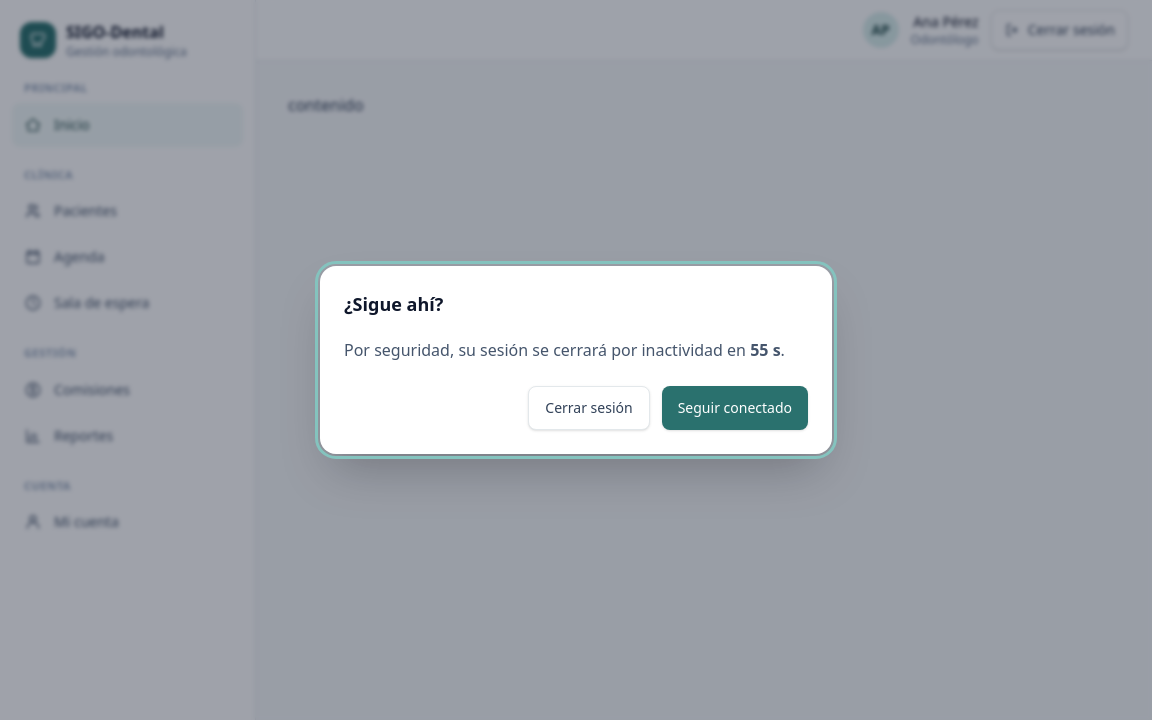
it: AppLayout: inactividad (RNF-05c) › "Seguir conectado" evita el cierre y avisa al servidor
The width and height of the screenshot is (1152, 720).
What coordinates should you click on to do the following:
click the button "Seguir conectado"
I would click on:
 (735, 408)
Its box is x1=662 y1=386 x2=808 y2=430.
Wait 600000 ms
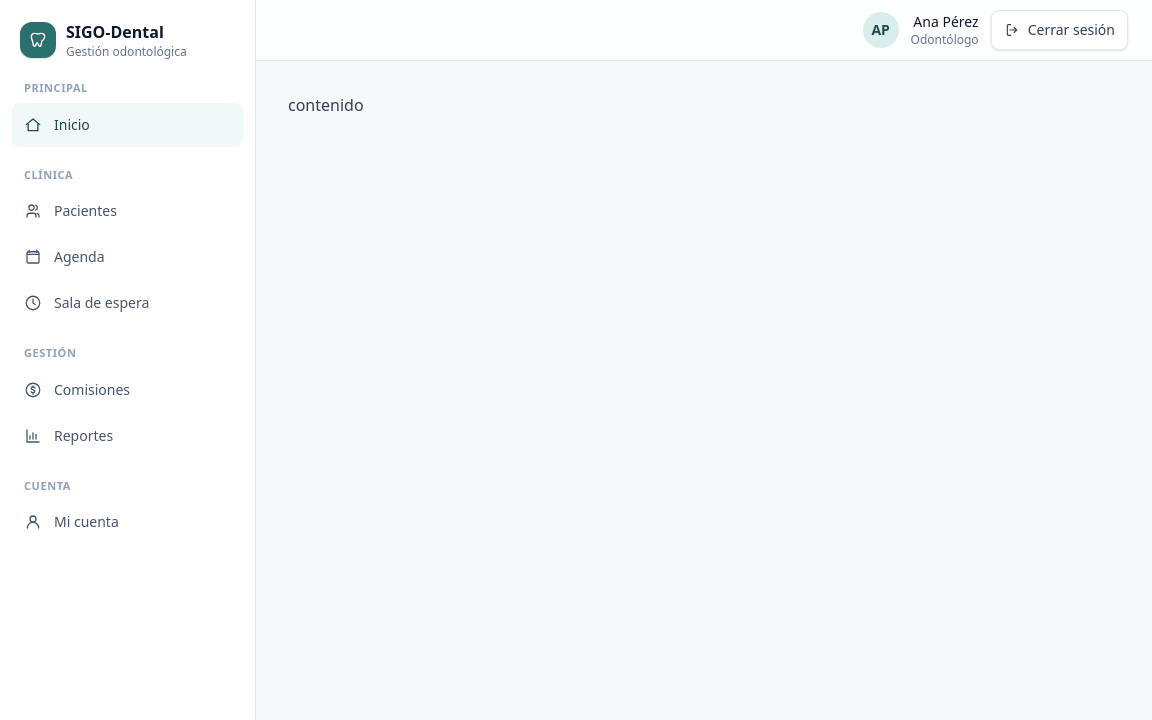
Check: the dialog is gone
